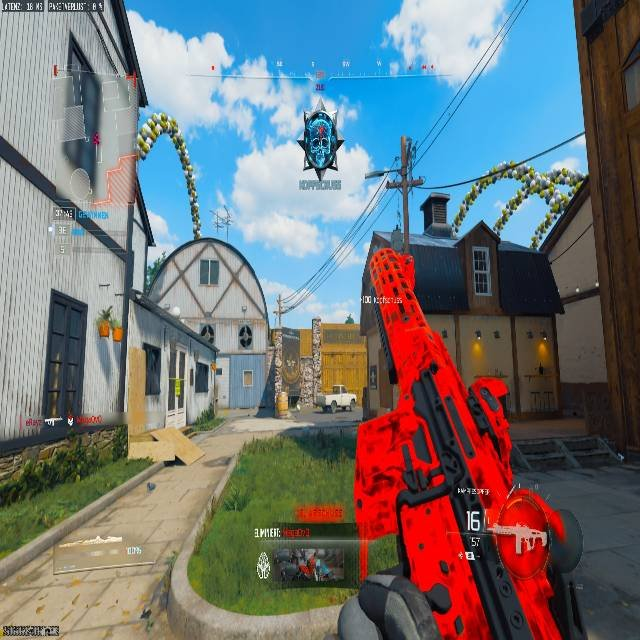player: (299, 94, 344, 180), (237, 324, 253, 351), (345, 313, 354, 323)
